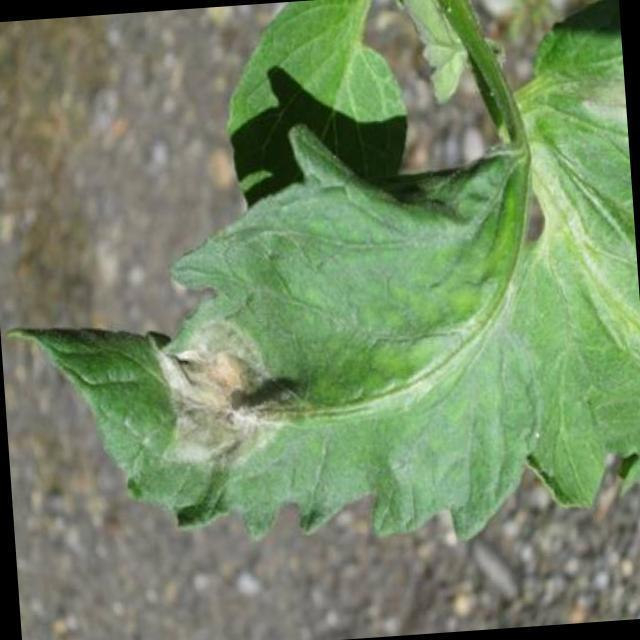Healthy Leaf: (138, 321, 294, 472)
